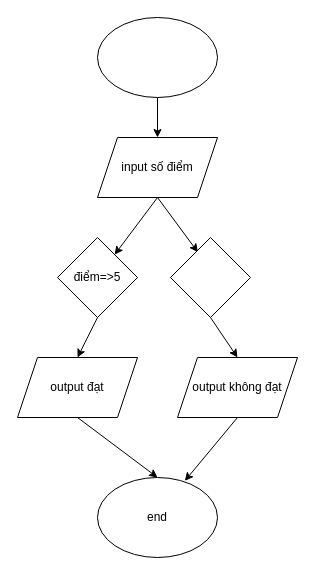
The diagram is 315 pixels wide and 575 high, and some of its shapes have lost their labels. The shapes that lost their labels are listed below. From the top down, each one's box as (x1, y1, x2, y2) in pixels, then its label:
(96, 16, 218, 98): start
(170, 236, 250, 318): điểm<5
